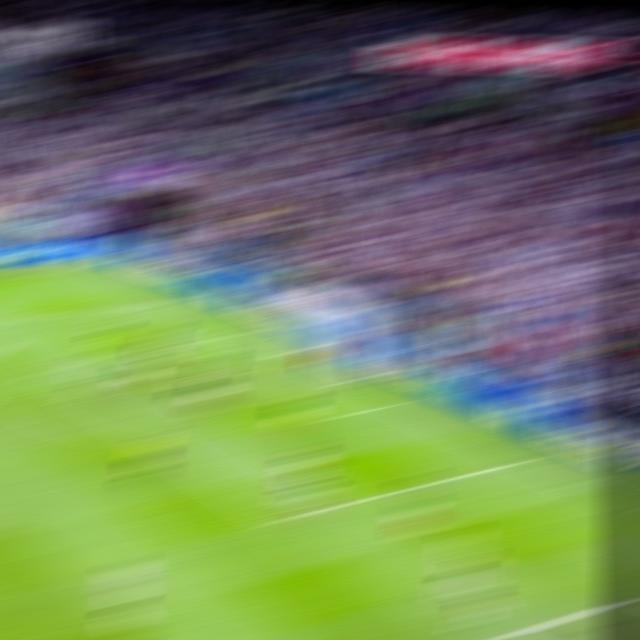bigarea_bottom_inner: (262, 507, 302, 532)
bigarea_bottom_outter: (505, 451, 543, 469)
bigarea_top_outter: (153, 294, 188, 306)
corner: (76, 261, 111, 270)
smallarea_bottom_inner: (311, 407, 349, 426)
smallarea_bottom_outter: (381, 396, 417, 410)
smallarea_top_inner: (165, 336, 200, 351)
smallarea_top_outter: (227, 325, 262, 340)
top_arc_area_intersection: (26, 364, 63, 379)
